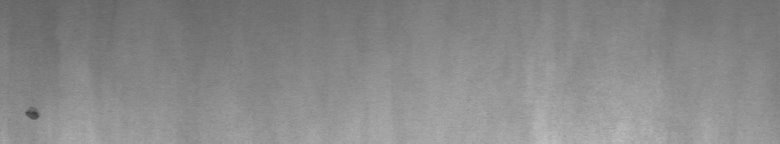fi: (23, 103, 43, 127)
